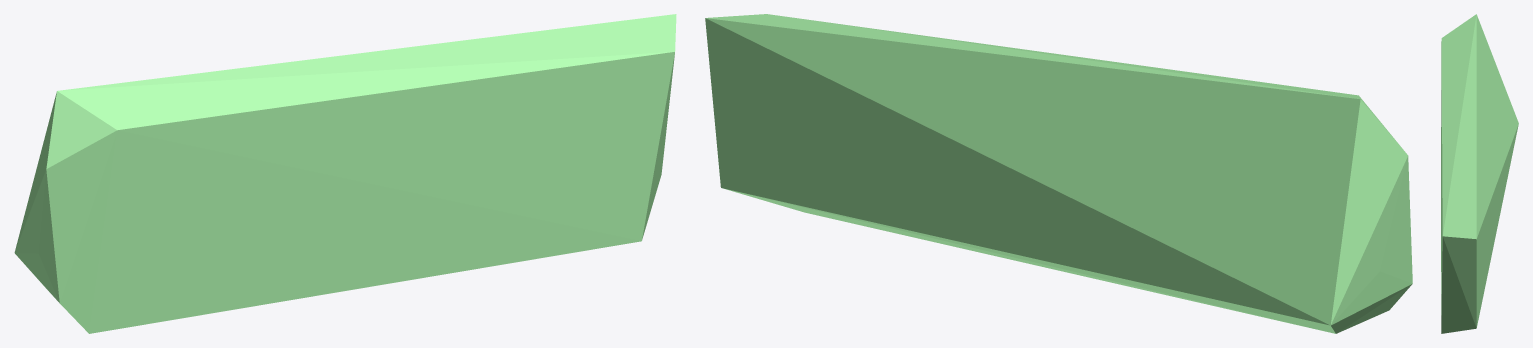
File: UMIRobot_UMIRobot_link_2_convex_coll_13.dae
3 views of the same model, side by side, from view 1: azimuth 30°, elevation 25°; view 2: azimuth 150°, elevation 25°; view 3: azimuth 270°, elevation 25° (orthographic). The views are drawn at different scales.
Parts seen in each view (by area): view 1: node; view 2: node; view 3: node.
Part boxes in pixels (bbox=[...]): node: bbox=[14, 14, 676, 333]; node: bbox=[705, 14, 1412, 333]; node: bbox=[1441, 14, 1518, 333].
Bounding box in the file's own units: 0.063 × 0.0246 × 0.011.
